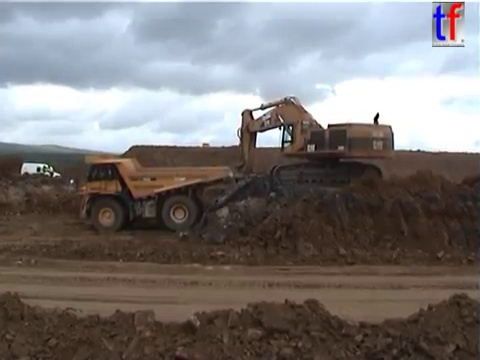excavator: (227, 93, 397, 201)
truck: (68, 151, 230, 233)
worker: (45, 162, 55, 182), (40, 162, 47, 181)
